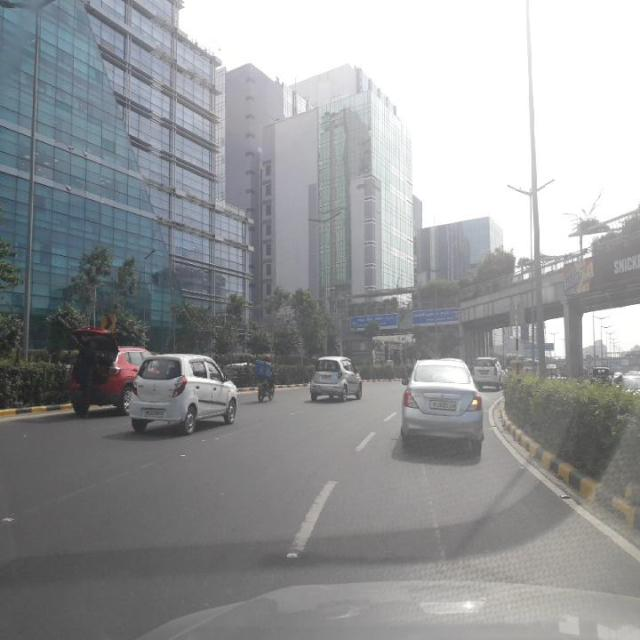pothole: (419, 453, 449, 578)
